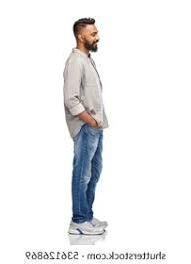Human: (57, 12, 128, 246)
